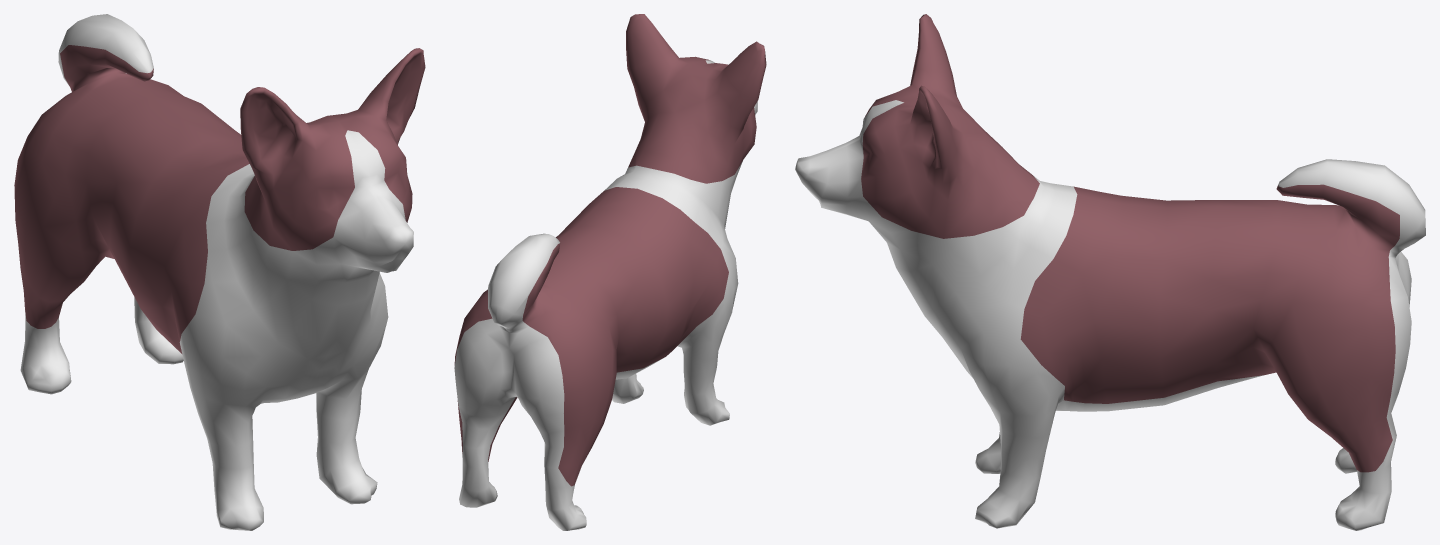
The model's file is corgi.fbx.
3 renders of one model, left to right at view 1: azimuth 30°, elevation 25°; view 2: azimuth 150°, elevation 25°; view 3: azimuth 270°, elevation 25°, orthographic. The views are drawn at different scales.
Visible parts, largest first — view 1: Corgi; view 2: Corgi; view 3: Corgi.
Part boxes in pixels (box(x1,y1,x2,y2)): Corgi: box(14, 14, 425, 530); Corgi: box(454, 14, 766, 530); Corgi: box(795, 14, 1425, 530).
Bounding box in the file's own units: 6454 × 15524 × 19902.
